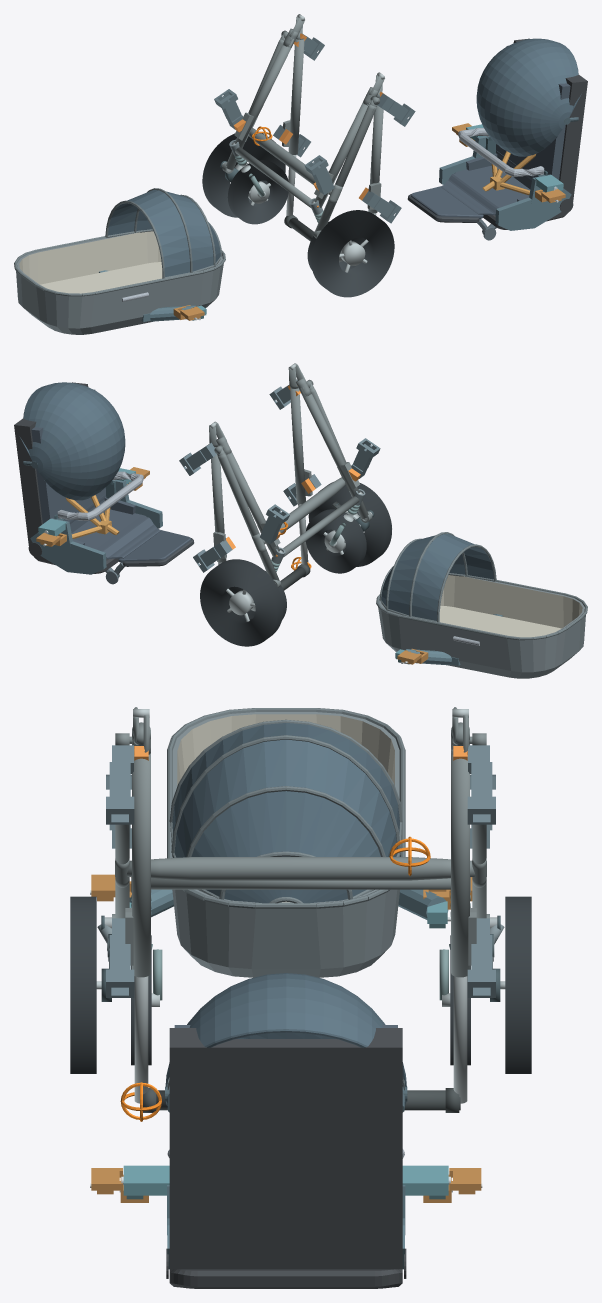
File: D05_w650_state3_wheel_M.glb
3 renders of one model, top to bottom at view 1: azimuth 30°, elevation 25°; view 2: azimuth 150°, elevation 25°; view 3: azimuth 270°, elevation 25°, orthographic. The views are drawn at different scales.
Visible parts, largest first — view 1: D05_Upper, D05_Lower, RL_tire.011, D05_Lower_Mount_L, FR_tire.011, RR_tire.011, main_upper_1.012, V46_rear_leg_-1.011, main_lower_1.012, V46_rearbar.011, main_lower_-1.012, main_upper_-1.012 (+8 smaller); view 2: D05_Upper, D05_Lower, RR_tire.011, D05_Lower_Mount_L, FL_tire.011, RL_tire.011, main_upper_-1.012, V46_rear_leg_1.011, main_lower_-1.012, V46_rearbar.011, main_lower_1.012, main_upper_1.012 (+8 smaller); view 3: D05_Lower, D05_Upper, V46_rearbar.011, RL_tire.011, RR_tire.011, main_upper_1.012, main_upper_-1.012, D05_Lower_Mount_L, front_fixed_round_tube.011, Universal_Cabin_Receiver_M_1, Universal_Cabin_Receiver_M_-1, D05_Upper_Mount_H (+9 smaller).
Boxes of the visible parts, x1,y1,x2,y2 form: D05_Upper: (14,188,225,334); D05_Lower: (407,38,587,240); RL_tire.011: (311,210,394,297); D05_Lower_Mount_L: (439,124,571,230); FR_tire.011: (227,160,288,224); RR_tire.011: (202,133,285,217); main_upper_1.012: (288,39,304,154); V46_rear_leg_-1.011: (315,104,376,231); main_lower_1.012: (234,39,293,147); V46_rearbar.011: (249,128,331,194); main_lower_-1.012: (314,101,370,207); main_upper_-1.012: (368,98,383,213); D05_Upper: (376,532,587,678); D05_Lower: (14,382,194,584); RR_tire.011: (200,559,283,646); D05_Lower_Mount_L: (30,468,162,574); FL_tire.011: (305,509,366,573); RL_tire.011: (308,482,391,566); main_upper_-1.012: (290,388,305,504); V46_rear_leg_1.011: (217,453,279,580); main_lower_-1.012: (300,388,359,497); V46_rearbar.011: (262,477,345,544); main_lower_1.012: (223,450,279,557); main_upper_1.012: (211,447,226,562); D05_Lower: (165,973,407,1288); D05_Upper: (167,708,405,977); V46_rearbar.011: (126,857,475,880); RL_tire.011: (70,896,96,1073); RR_tire.011: (505,896,531,1073); main_upper_1.012: (451,753,469,977); main_upper_-1.012: (132,753,150,977); D05_Lower_Mount_L: (119,1165,452,1269); front_fixed_round_tube.011: (151,878,450,889); Universal_Cabin_Receiver_M_1: (467,745,495,824); Universal_Cabin_Receiver_M_-1: (106,745,134,824); D05_Upper_Mount_H: (129,889,450,928).
Bounding box in the file's own units: 2.1 × 0.7809 × 0.781.
